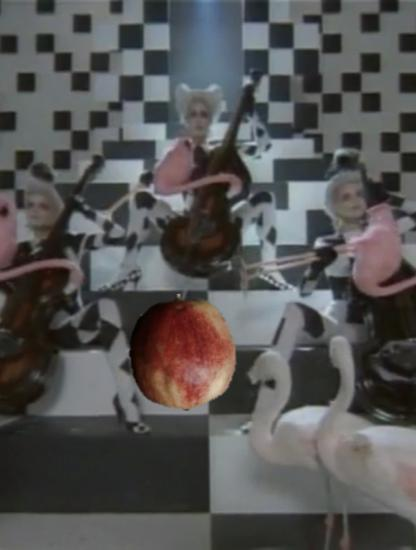Apple: (124, 294, 241, 411)
